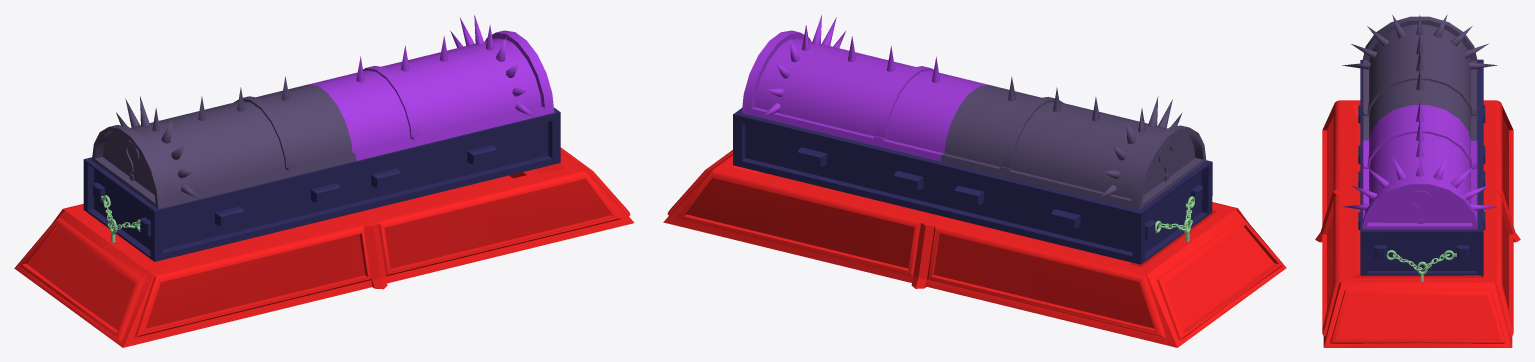
3 renders of one model, left to right at view 1: azimuth 30°, elevation 25°; view 2: azimuth 150°, elevation 25°; view 3: azimuth 270°, elevation 25°, orthographic. The views are drawn at different scales.
Visible parts, largest first — view 1: Box003, Box004, Object003, Object001; view 2: Box003, Box004, Object003, Object001, Torus010; view 3: Box003, Object001, Object003, Box004, Torus011.
Boxes of the visible parts, <box> form: Box003: <box>14,147,634,347</box>; Box004: <box>83,107,560,261</box>; Object003: <box>92,76,356,209</box>; Object001: <box>308,15,554,160</box>; Box003: <box>663,150,1286,347</box>; Box004: <box>733,108,1212,264</box>; Object003: <box>940,76,1206,210</box>; Object001: <box>742,15,988,161</box>; Torus010: <box>1155,196,1194,241</box>; Box003: <box>1315,100,1520,347</box>; Object001: <box>1342,100,1497,229</box>; Object003: <box>1342,14,1497,144</box>; Box004: <box>1358,59,1485,275</box>; Torus011: <box>1386,250,1456,281</box>.
Size of the model in its own units: 2 by 0.6707 by 0.8026.
